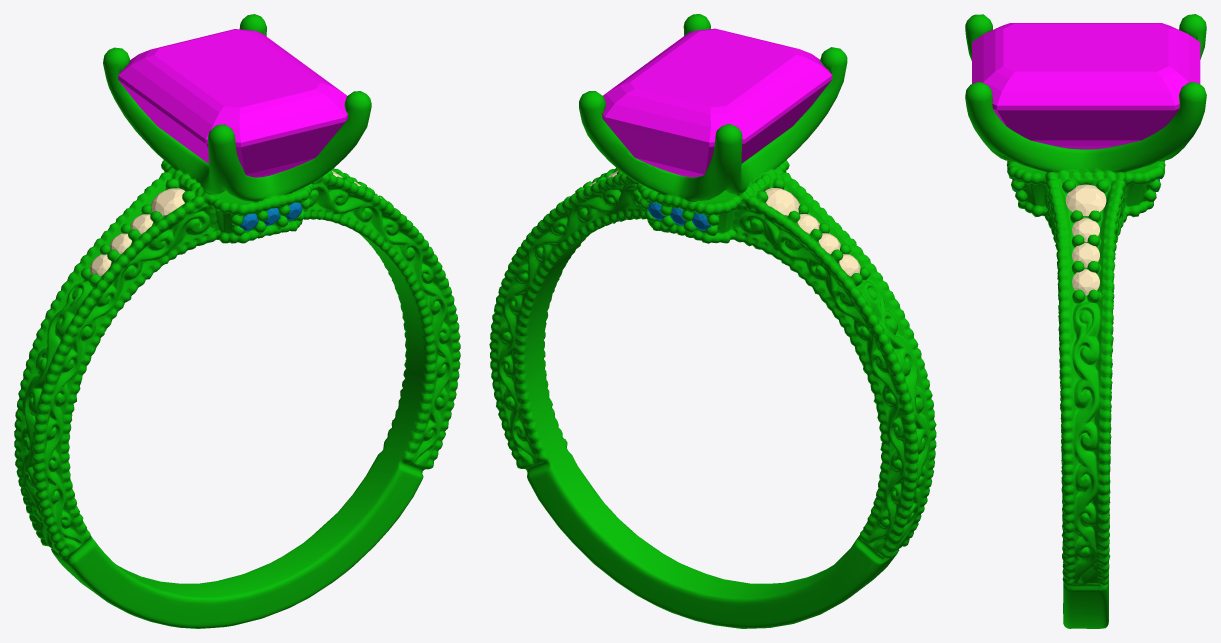
File: BE132D_EM_200ct_RENDER.glb
The picture shows the model from 3 angles, left to right: view 1: azimuth 30°, elevation 25°; view 2: azimuth 150°, elevation 25°; view 3: azimuth 270°, elevation 25°; orthographic projection.
Visible parts, largest first — view 1: Metal 01, CS_Diamond_Emerald, Diamond_Round_Gem_SH.001; view 2: Metal 01, CS_Diamond_Emerald, Diamond_Round_Gem_SH.001; view 3: Metal 01, CS_Diamond_Emerald, Diamond_Round_Gem_SH.005, Diamond_Round_Gem_SH.007, Diamond_Round_Gem_SH.006, Diamond_Round_Gem_SH.004.
Part boxes in pixels (x1,y1,x2,y2): Metal 01: (14, 14, 460, 628); CS_Diamond_Emerald: (118, 29, 347, 177); Diamond_Round_Gem_SH.001: (150, 188, 184, 216); Metal 01: (489, 14, 936, 628); CS_Diamond_Emerald: (602, 28, 832, 177); Diamond_Round_Gem_SH.001: (765, 188, 799, 215); Metal 01: (965, 14, 1206, 628); CS_Diamond_Emerald: (972, 23, 1200, 149); Diamond_Round_Gem_SH.005: (1065, 184, 1106, 216); Diamond_Round_Gem_SH.007: (1072, 269, 1099, 295); Diamond_Round_Gem_SH.006: (1072, 243, 1099, 267); Diamond_Round_Gem_SH.004: (1072, 218, 1099, 242).
Bounding box in the file's own units: 19.84 × 24.28 × 9.53.
